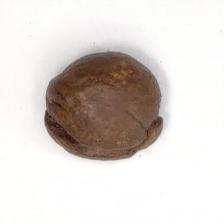NG: (42, 111, 166, 161)
